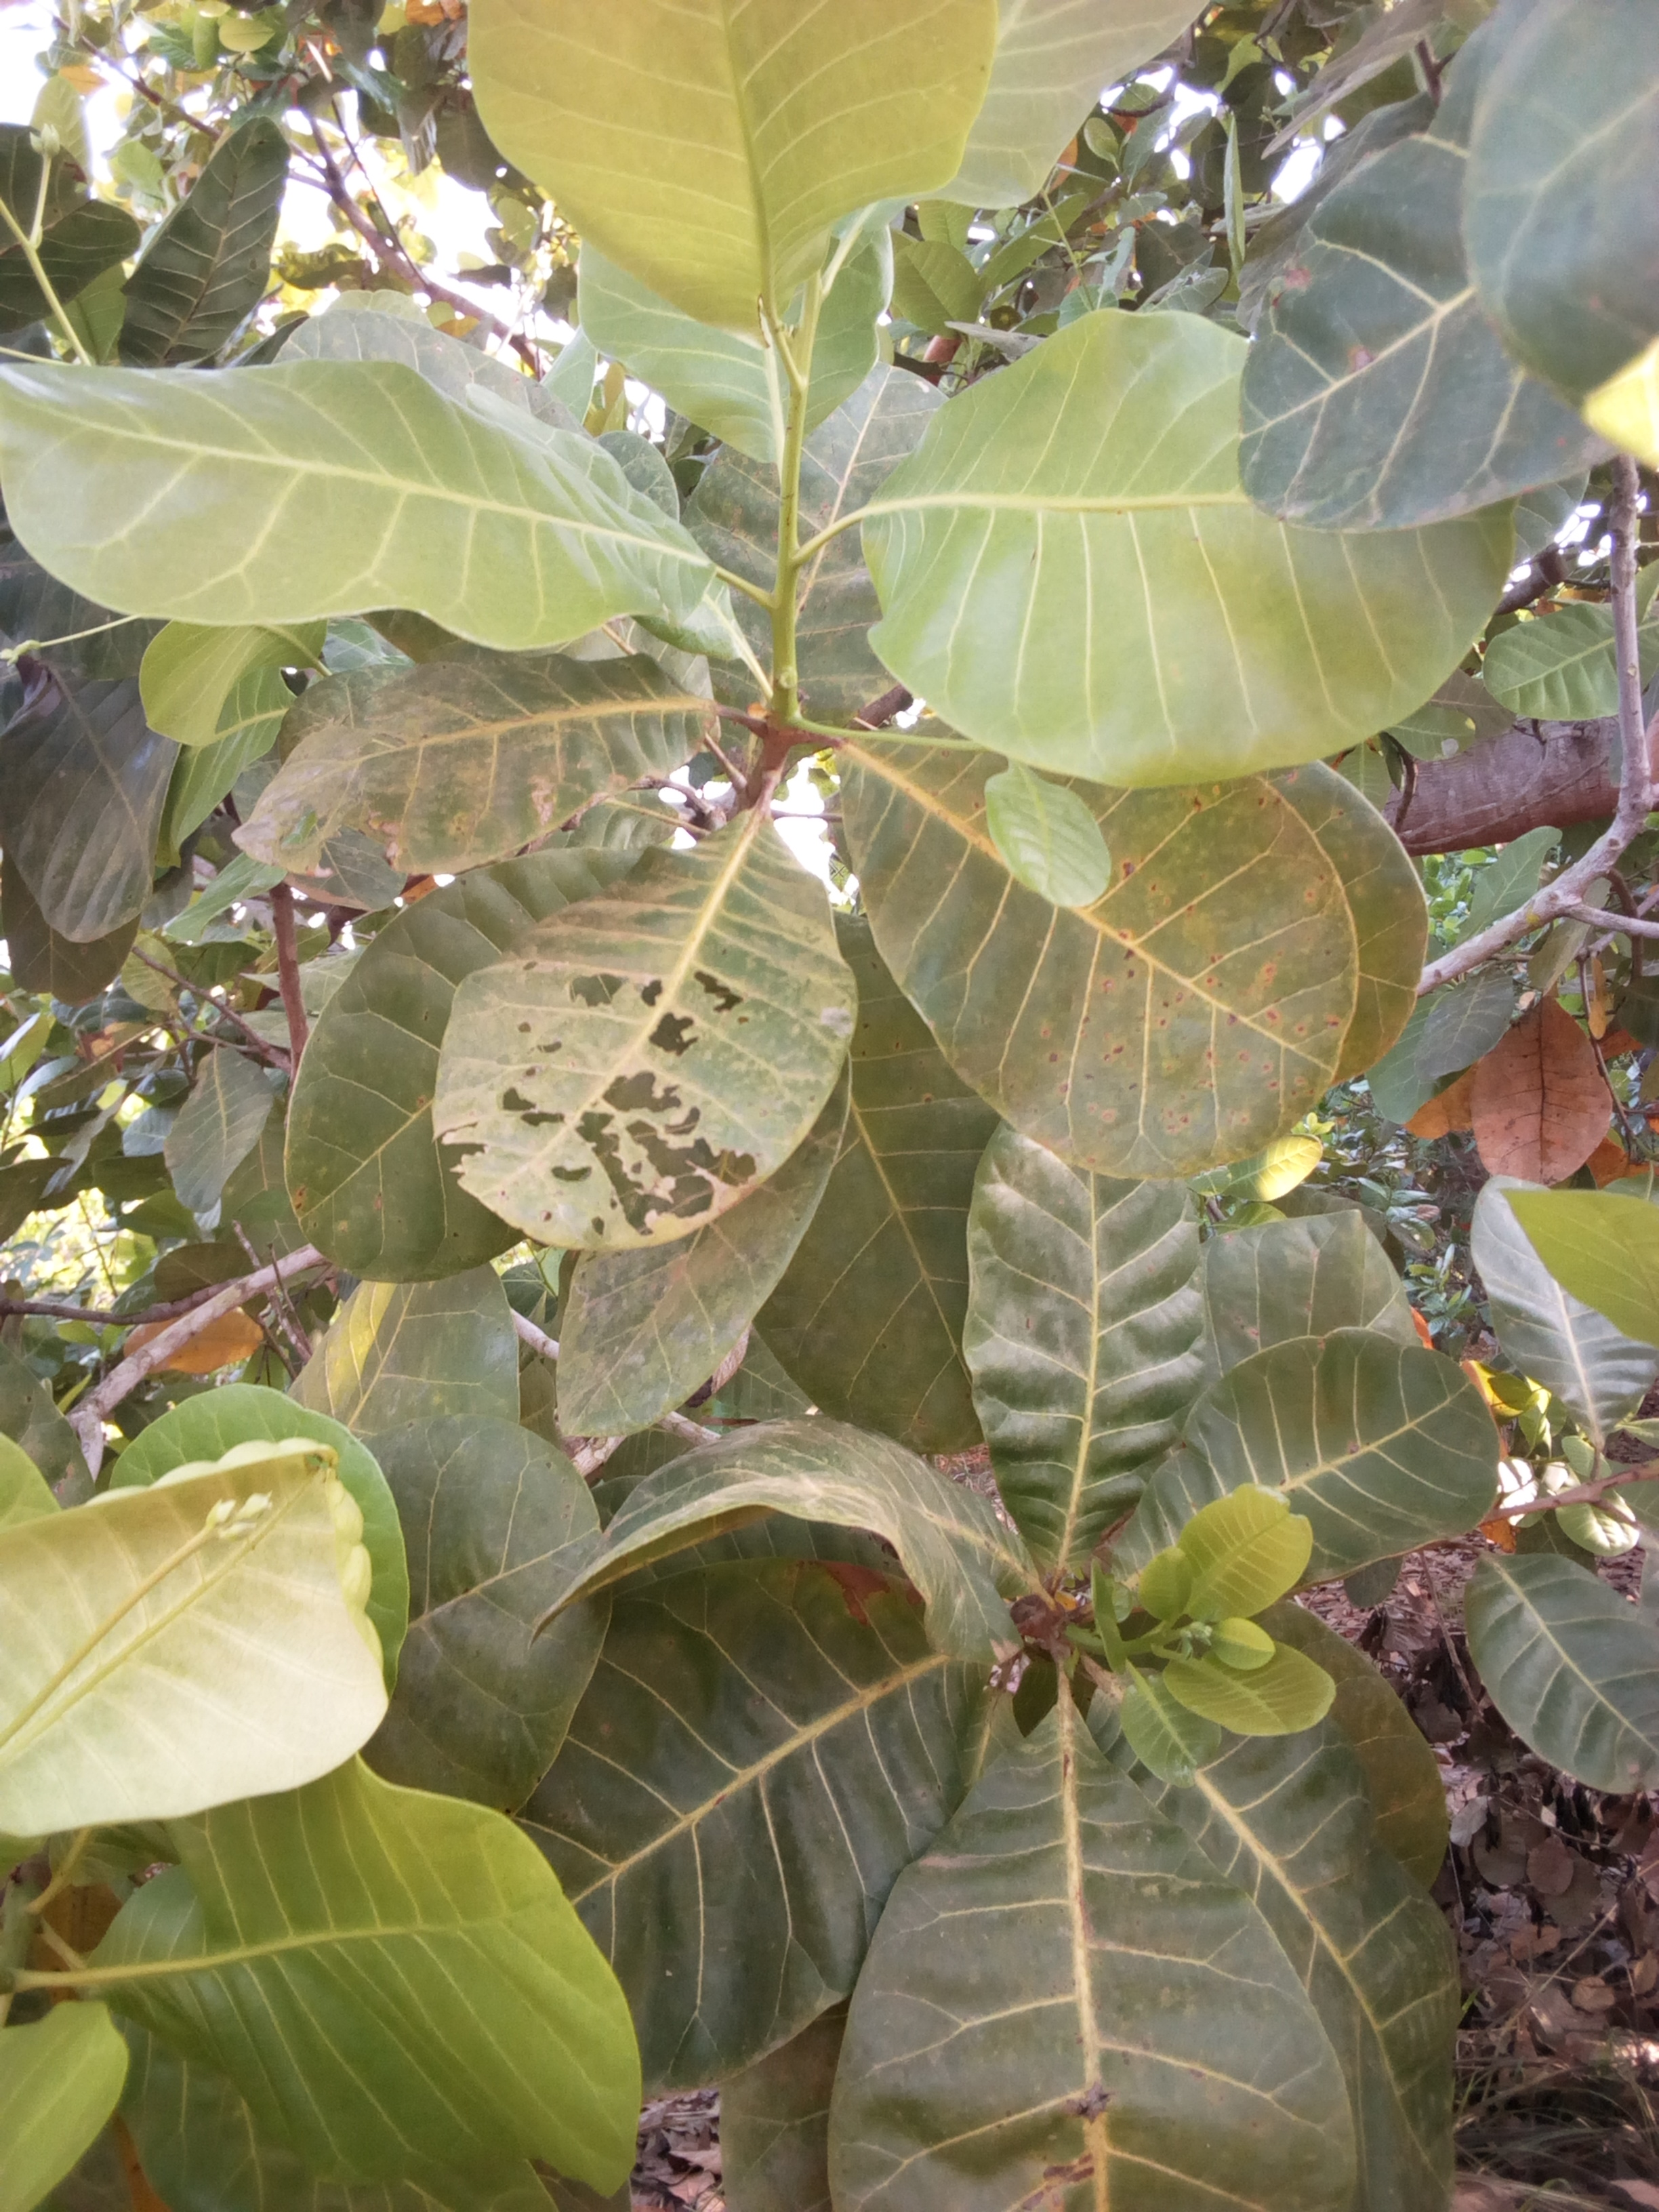Anoplocnemis curvipes: (436, 855, 833, 1238)
